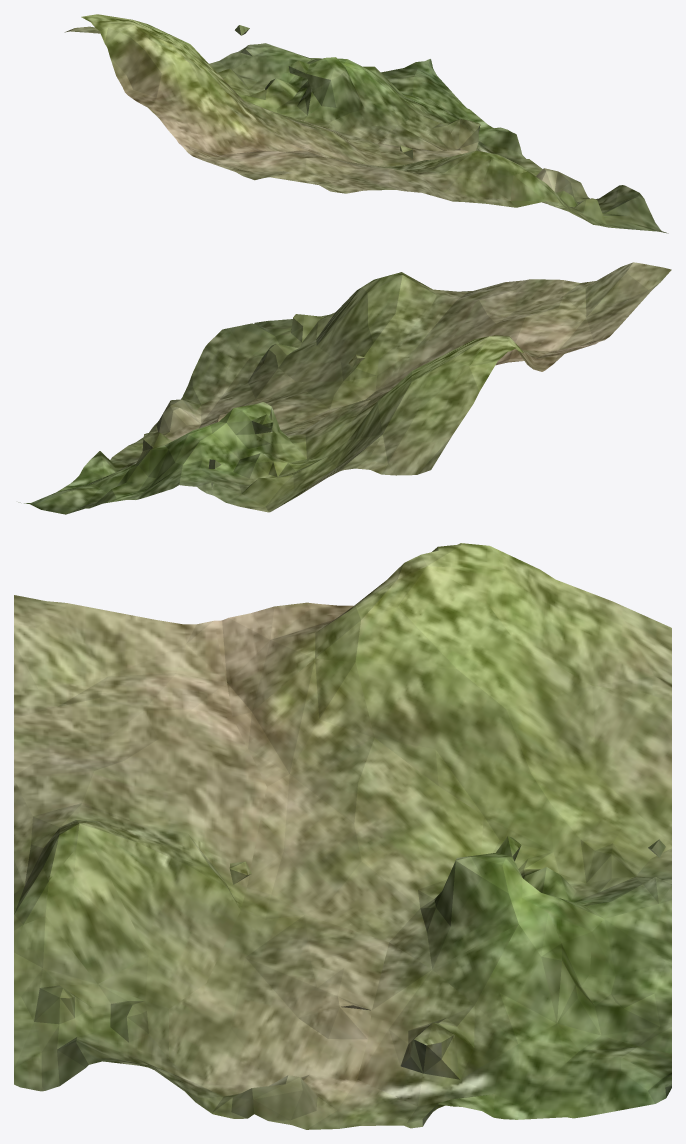
3 renders of one model, top to bottom at view 1: azimuth 30°, elevation 25°; view 2: azimuth 150°, elevation 25°; view 3: azimuth 270°, elevation 25°, orthographic. The views are drawn at different scales.
Size of the model in its own units: 2.95 by 1.53 by 2.95.
3 materials, 3 textured.
